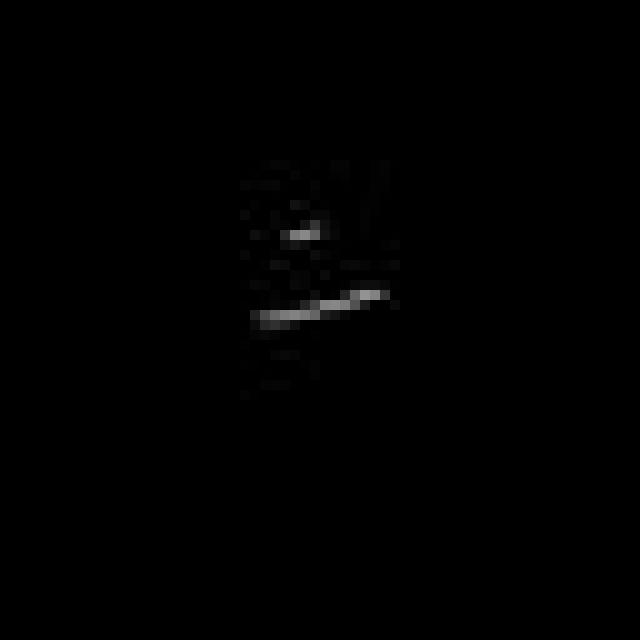2 -two-: (255, 210, 393, 348)
